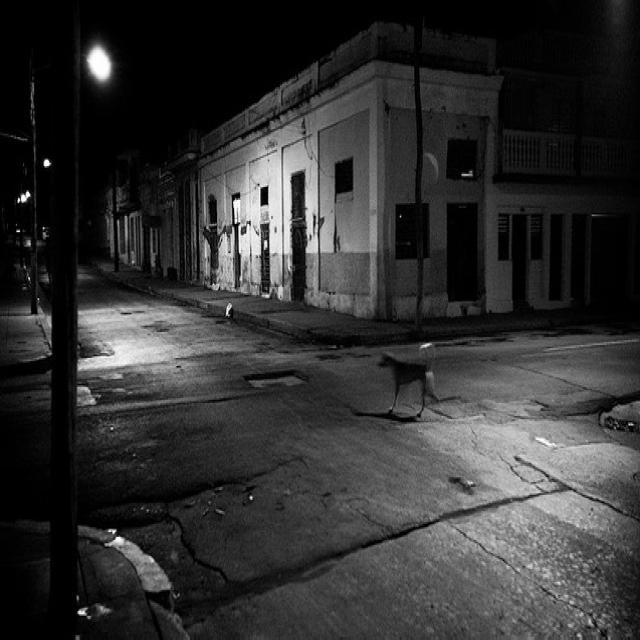Dog: (364, 356, 456, 419)
